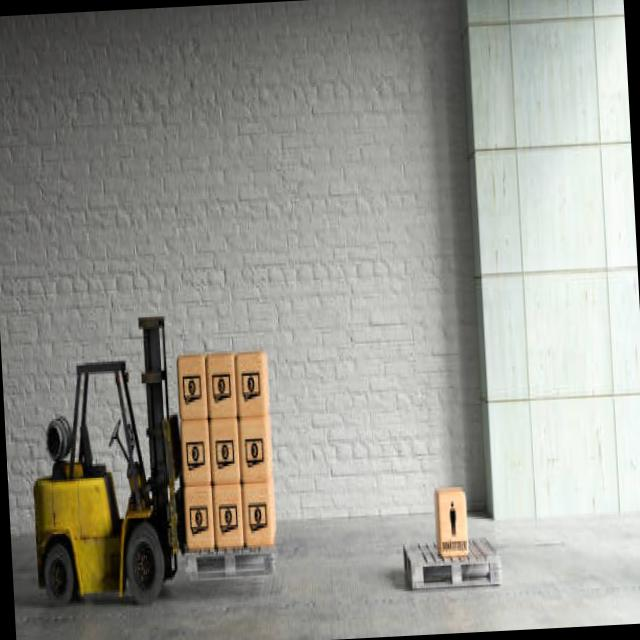Wooden-Pallets: (406, 552, 505, 600), (181, 549, 278, 582)
